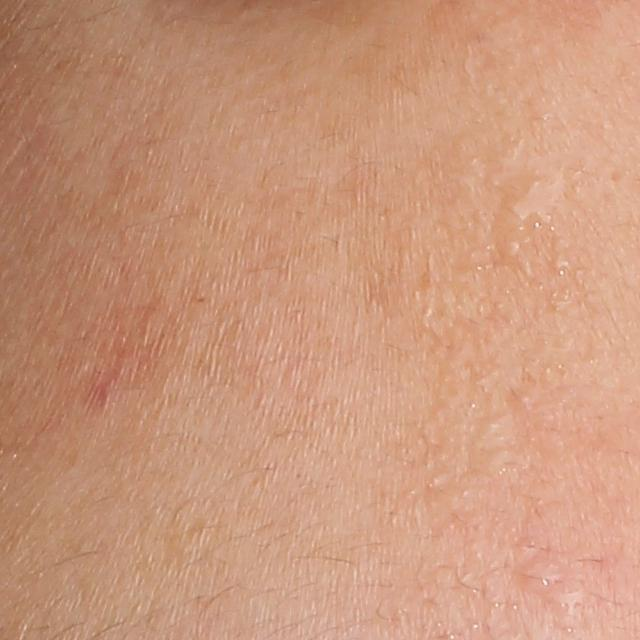other: (489, 170, 573, 254), (509, 549, 578, 601)
